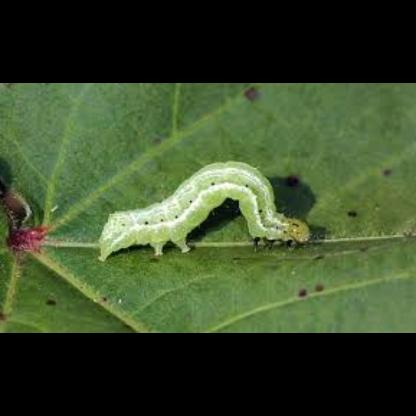agujero: (264, 164, 324, 214)
oruga: (78, 155, 314, 273)
